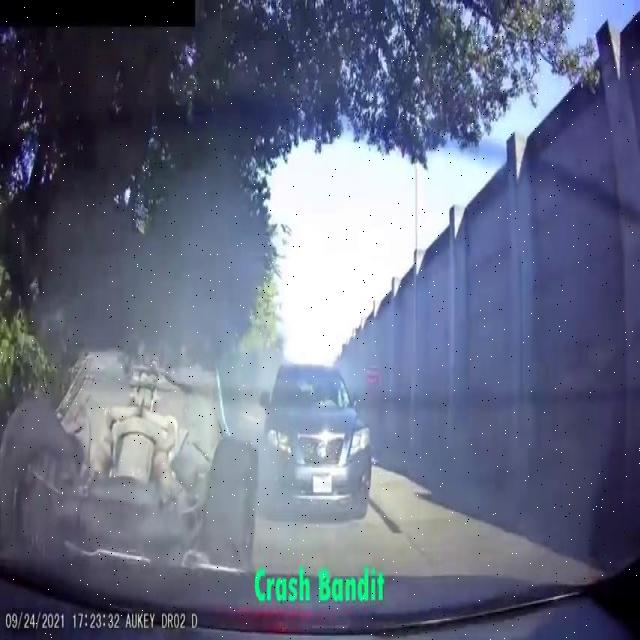severe: (0, 344, 256, 588)
